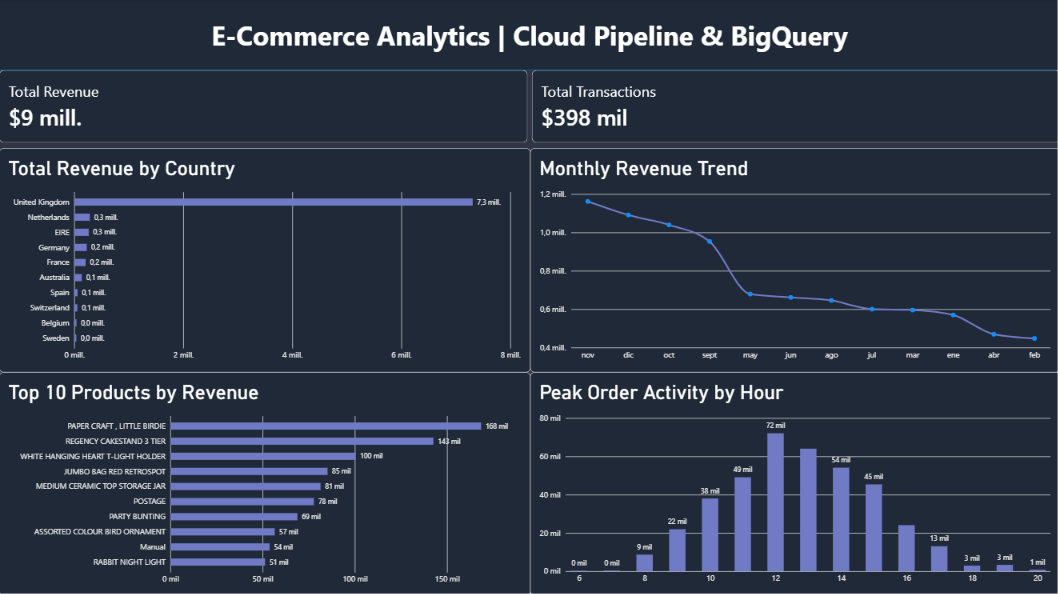

Layout of this report page (visuals, bound fields, positions):
{"tool":"powerbi","page":{"name":"Página 1","canvas":[1920,1080],"ordinal":0},"visuals":[{"type":"clusteredBarChart","title":"Total Revenue by Country","fields":{"Category":["vw_ventas_limpias.pais"],"Y":["Sum(vw_ventas_limpias.monto_total)"]},"box":[0,269.6,961.2,405.5],"z":0},{"type":"lineChart","title":"Monthly Revenue Trend","fields":{"Category":["vw_ventas_limpias.Month_Name"],"Y":["Sum(vw_ventas_limpias.monto_total)"]},"box":[961.2,269.6,959.2,405.5],"z":1000},{"type":"shape","box":[0,0,1920.1,128.5],"z":2000},{"type":"textbox","box":[0,32.6,1920.1,65.1],"z":3000},{"type":"cardVisual","fields":{"Data":["Sum(vw_ventas_limpias.monto_total)","CountNonNull(vw_ventas_limpias.numero_factura)"]},"box":[0,127.6,1920.4,131.7],"z":4000},{"type":"clusteredBarChart","title":"Top 10 Products by Revenue","fields":{"Category":["vw_ventas_limpias.descripcion_producto"],"Y":["Sum(vw_ventas_limpias.monto_total)"]},"box":[0,675.1,961.2,405.5],"z":5000},{"type":"columnChart","title":"Peak Order Activity by Hour","fields":{"Category":["vw_ventas_limpias.Order_Hour"],"Y":["CountNonNull(vw_ventas_limpias.numero_factura)"]},"box":[961,675,959,405],"z":6000}]}

Visuals, with their boxes in screenshot pixels (x1, y1, x2, y2), scaled from the page's 1920x1080 canvas onto the 1058x594 screenshot:
"Total Revenue by Country" clusteredBarChart: l=0, t=148, r=530, b=371
"Monthly Revenue Trend" lineChart: l=530, t=148, r=1057, b=371
shape: l=0, t=0, r=1057, b=71
textbox: l=0, t=18, r=1057, b=54
cardVisual - Sum(vw_ventas_limpias.monto_total) x CountNonNull(vw_ventas_limpias.numero_factura): l=0, t=70, r=1057, b=143
"Top 10 Products by Revenue" clusteredBarChart: l=0, t=371, r=530, b=593
"Peak Order Activity by Hour" columnChart: l=530, t=371, r=1057, b=593
